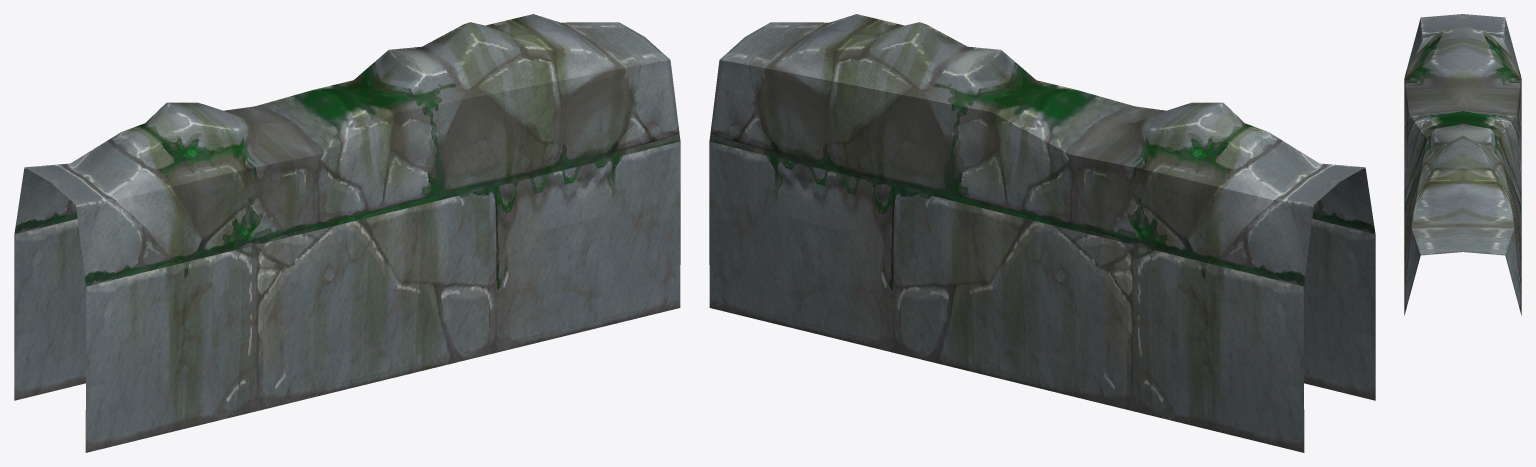
The model's file is stemple_quarter_straight_05.fbx.
3 views of the same model, side by side, from view 1: azimuth 30°, elevation 25°; view 2: azimuth 150°, elevation 25°; view 3: azimuth 270°, elevation 25° (orthographic). The views are drawn at different scales.
Parts seen in each view (by area): view 1: stemple_quarter_straight_05-0; view 2: stemple_quarter_straight_05-0; view 3: stemple_quarter_straight_05-0.
Boxes of the visible parts, bbox=[...] form: stemple_quarter_straight_05-0: bbox=[14, 14, 680, 452]; stemple_quarter_straight_05-0: bbox=[709, 14, 1375, 452]; stemple_quarter_straight_05-0: bbox=[1404, 14, 1521, 315].
Size of the model in its own units: 4 by 1.94 by 0.8328.
